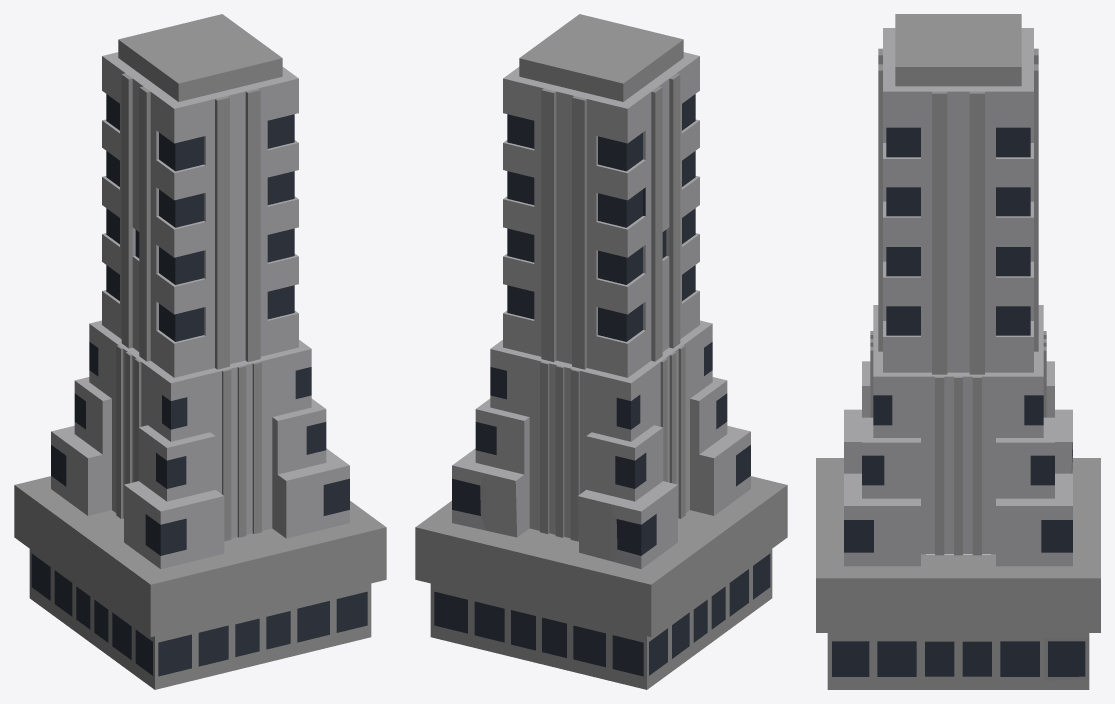
Rendered from home.glb.
3 views of the same model, side by side, from view 1: azimuth 30°, elevation 25°; view 2: azimuth 150°, elevation 25°; view 3: azimuth 270°, elevation 25° (orthographic). The views are drawn at different scales.
Visible parts, largest first — view 1: SM_Skyscraper_02:SM_Skyscraper1; view 2: SM_Skyscraper_02:SM_Skyscraper1; view 3: SM_Skyscraper_02:SM_Skyscraper1.
Boxes of the visible parts, bbox=[...] form: SM_Skyscraper_02:SM_Skyscraper1: bbox=[14, 14, 386, 689]; SM_Skyscraper_02:SM_Skyscraper1: bbox=[415, 14, 787, 689]; SM_Skyscraper_02:SM_Skyscraper1: bbox=[816, 14, 1100, 689].
Bounding box in the file's own units: 147 × 340 × 148.
